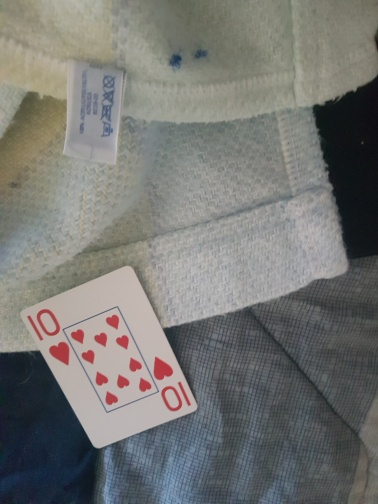ten: (21, 263, 199, 449)
